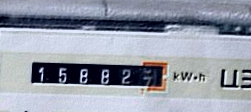1: (37, 66, 46, 82)
2: (121, 68, 131, 85)
5: (58, 67, 68, 83)
7: (143, 76, 152, 87)
8: (79, 68, 89, 85), (100, 68, 110, 85)
screen: (24, 54, 174, 97)
